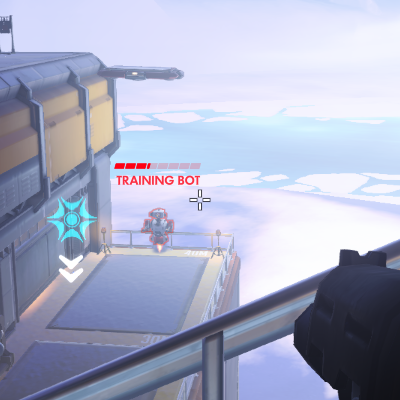hpbar: (114, 162, 201, 170)
